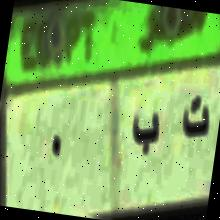0: (47, 124, 66, 170)
baa: (127, 104, 164, 160)
taa: (178, 86, 214, 146)
